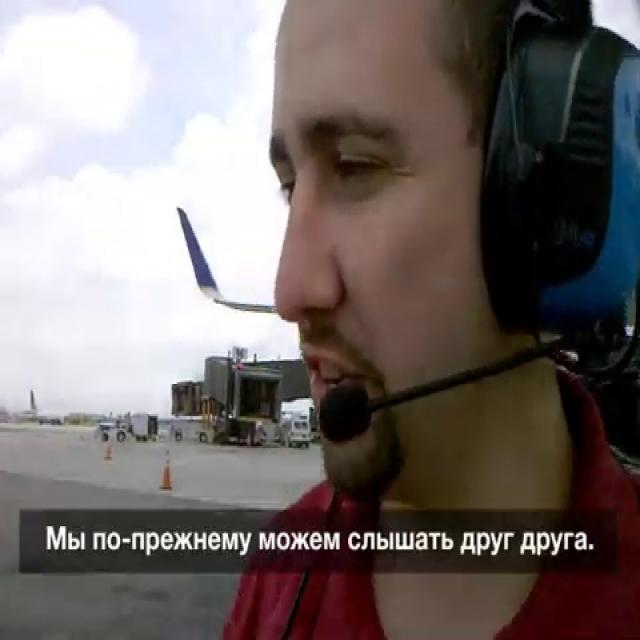earmuff: (480, 0, 640, 331)
